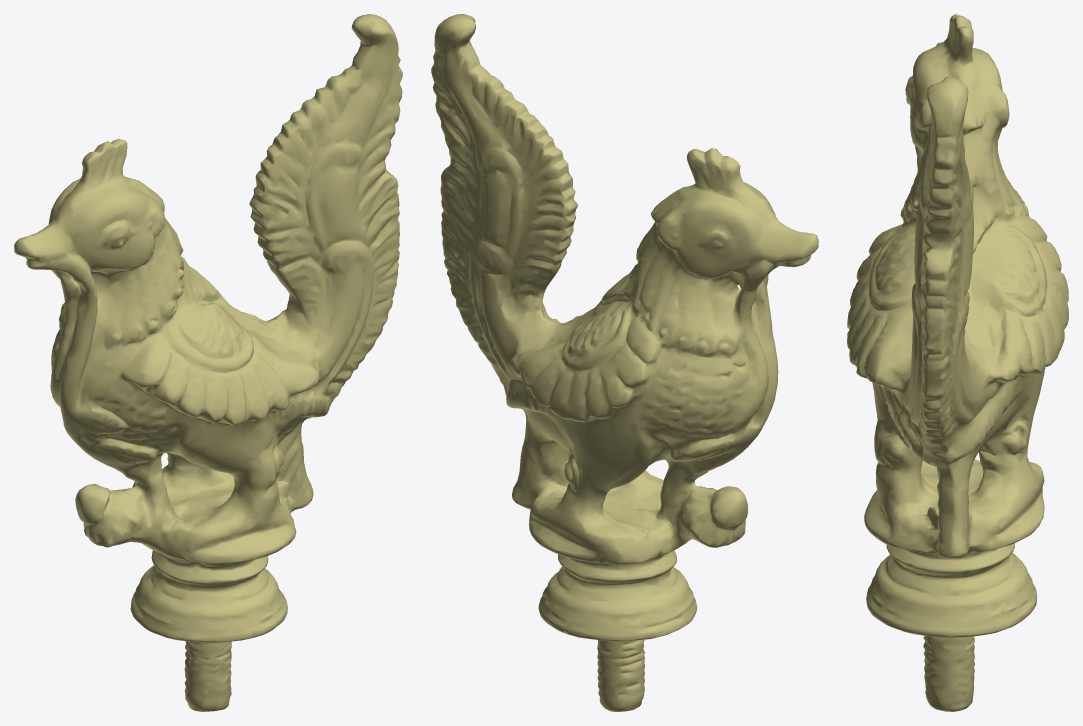
File: Vaahanangal_Annam_01.glb
The picture shows the model from 3 angles, left to right: view 1: azimuth 30°, elevation 25°; view 2: azimuth 150°, elevation 25°; view 3: azimuth 270°, elevation 25°; orthographic projection. The views are drawn at different scales.
Visible parts, largest first — view 1: Vaahanangal_Annam_01; view 2: Vaahanangal_Annam_01; view 3: Vaahanangal_Annam_01.
Boxes of the visible parts, bbox=[...] form: Vaahanangal_Annam_01: bbox=[14, 14, 402, 711]; Vaahanangal_Annam_01: bbox=[431, 14, 818, 711]; Vaahanangal_Annam_01: bbox=[847, 14, 1068, 711].
Size of the model in its own units: 0.3379 by 0.547 by 0.1549.
